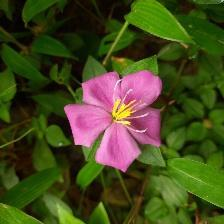malabar melastome: (63, 67, 166, 178)
